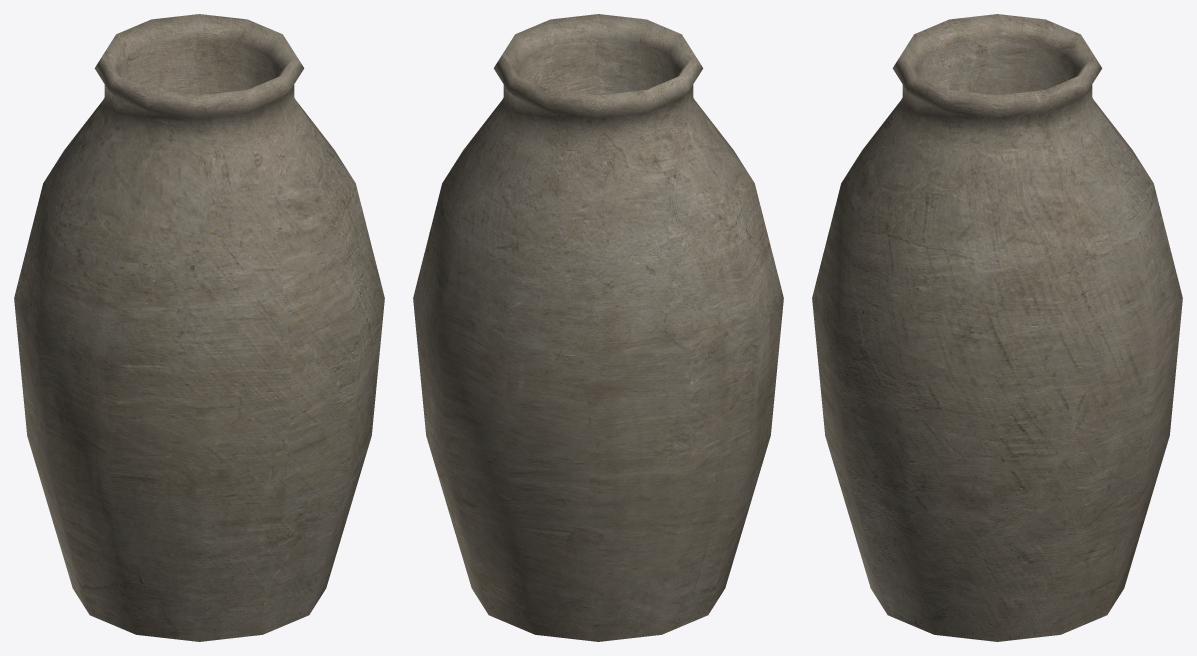
Rendered from Jug_1.FBX.
3 renders of one model, left to right at view 1: azimuth 30°, elevation 25°; view 2: azimuth 150°, elevation 25°; view 3: azimuth 270°, elevation 25°, orthographic.
Parts seen in each view (by area): view 1: mesh; view 2: mesh; view 3: mesh.
Part boxes in pixels (x1,y1,x2,y2): mesh: (14,14,384,641); mesh: (413,14,783,641); mesh: (812,14,1182,641).
Bounding box in the file's own units: 19.44 × 19.44 × 30.88.
